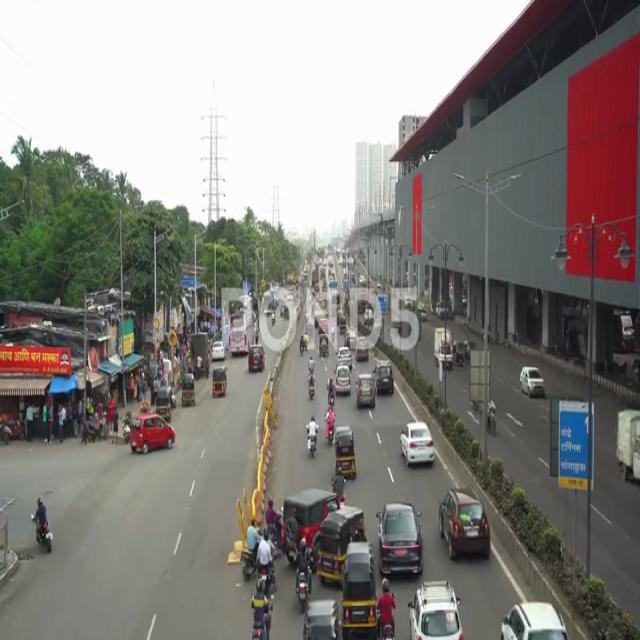car: (378, 483, 425, 579), (435, 488, 489, 556), (407, 584, 464, 640), (129, 413, 178, 452), (397, 425, 439, 466), (517, 359, 545, 405)
motorbike: (290, 537, 313, 611), (378, 581, 400, 640)
rikshaw: (342, 546, 377, 635), (334, 419, 355, 482), (212, 366, 228, 397)
